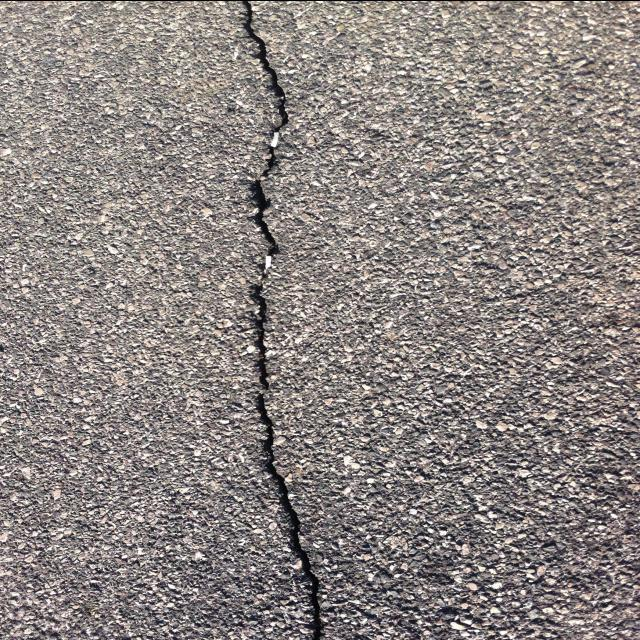Crack: (240, 0, 329, 640)
